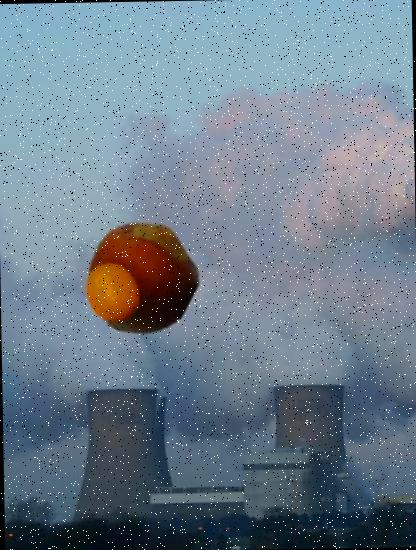Lemon: (80, 258, 144, 322)
Nut: (82, 219, 201, 338)
